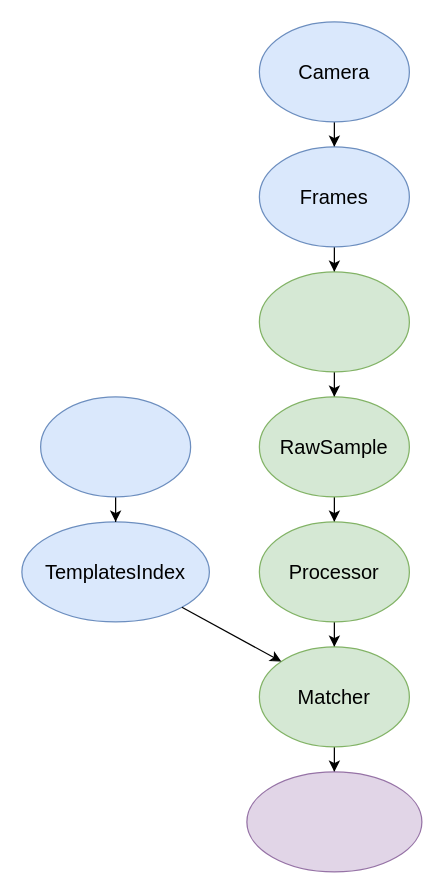
The diagram is 444 pixels wide and 894 high, and some of its shapes have lost their labels. Each missing label, with the centre of its shape:
"Capturer" goes at point 333,321.
"Identification" goes at point 334,821.
"Templates" goes at point 115,446.
